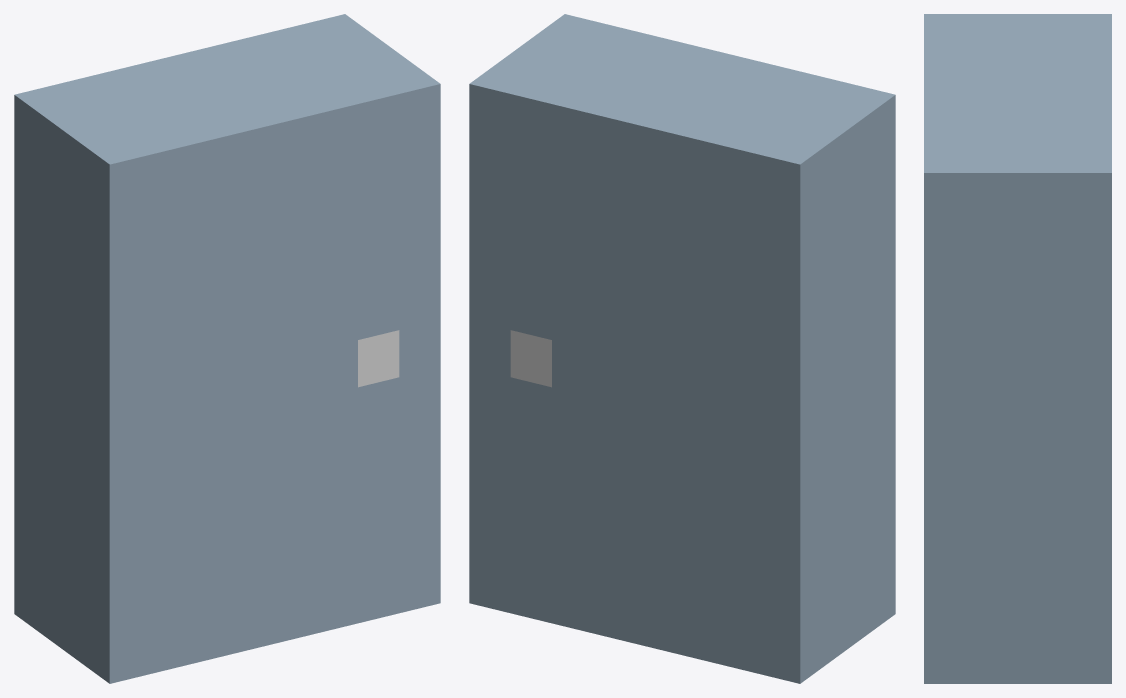
File: Door.fbx
3 renders of one model, left to right at view 1: azimuth 30°, elevation 25°; view 2: azimuth 150°, elevation 25°; view 3: azimuth 270°, elevation 25°, orthographic.
Parts seen in each view (by area): view 1: Door; view 2: Door; view 3: Door.
Part boxes in pixels (left/top/right/bottom): Door: left=14, top=14, right=440, bottom=683; Door: left=469, top=14, right=895, bottom=683; Door: left=924, top=14, right=1111, bottom=683.
Size of the model in its own units: 2 by 3 by 1.
